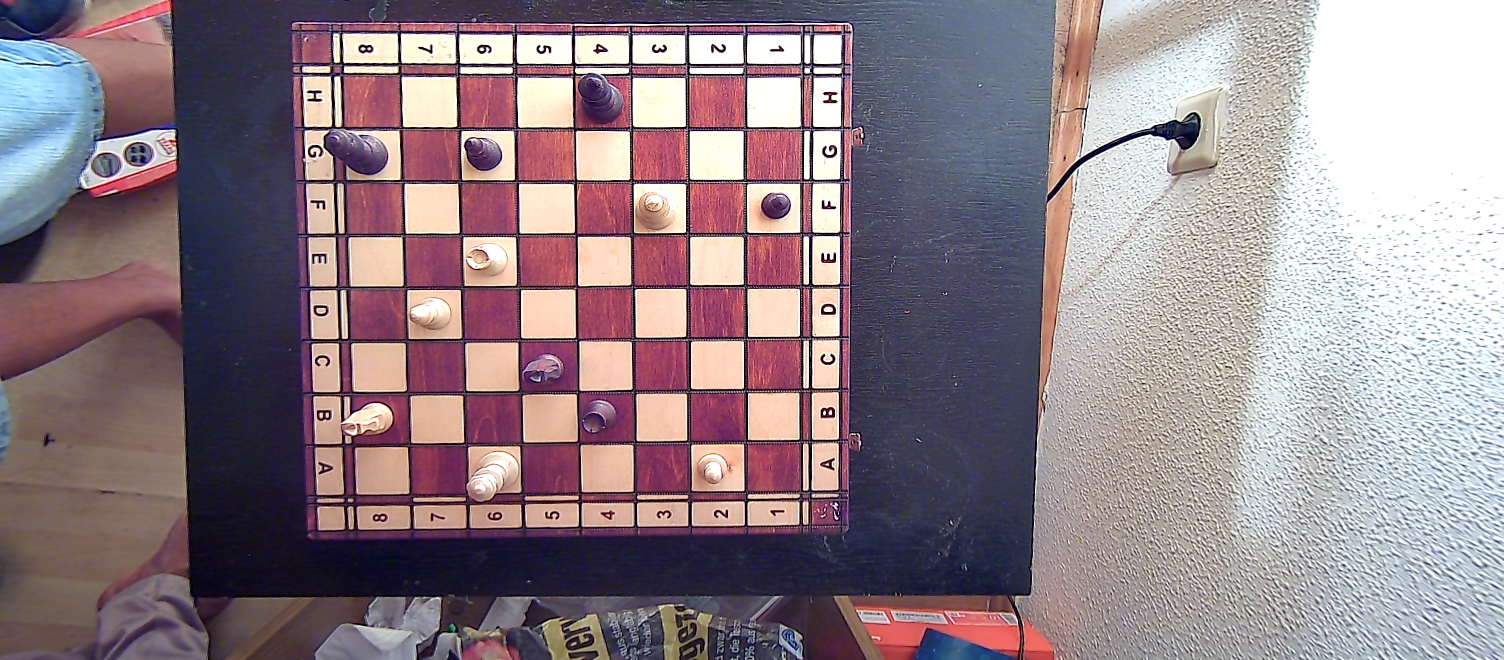black-bishop: (458, 134, 505, 172)
black-king: (576, 70, 624, 128)
black-knight: (520, 349, 566, 393)
black-pawn: (761, 190, 793, 221)
black-queen: (322, 127, 392, 176)
black-rook: (579, 395, 619, 437)
white-bishop: (405, 293, 454, 333)
white-king: (635, 185, 676, 231)
white-knight: (340, 400, 396, 438)
white-pawn: (695, 449, 732, 487)
white-queen: (464, 447, 520, 506)
white-rook: (463, 239, 510, 280)
